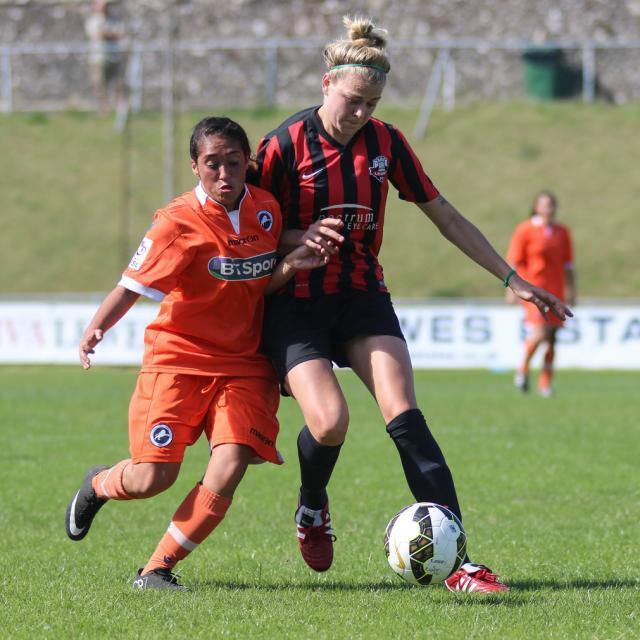football: (376, 496, 480, 595)
